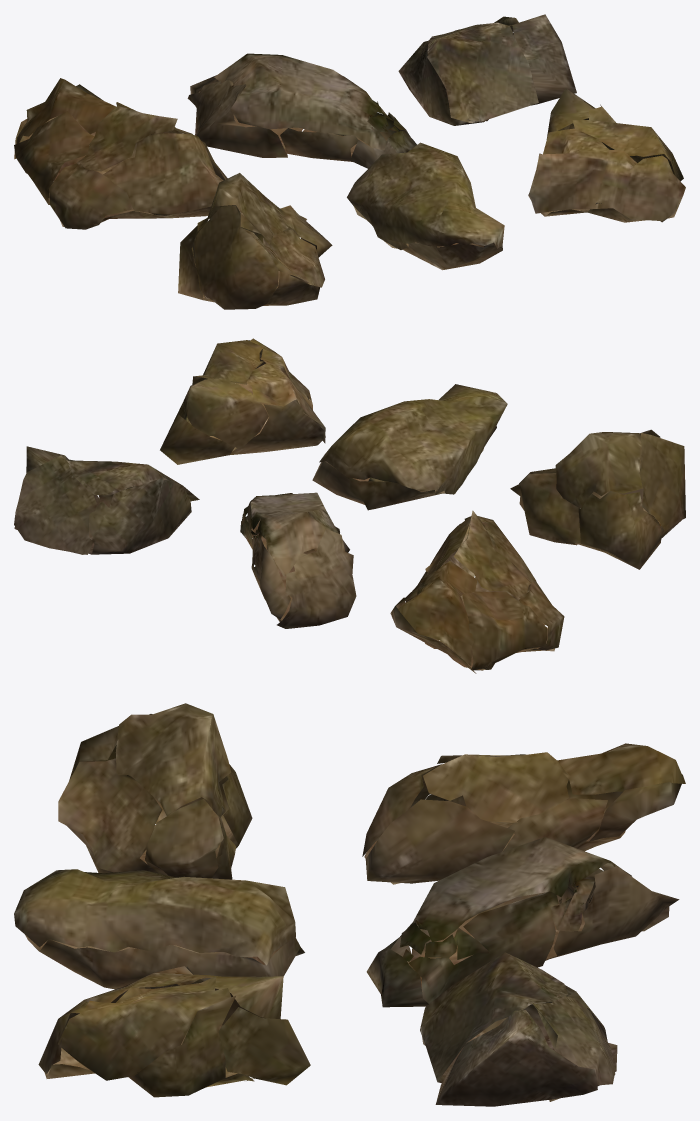
The model's file is rock_moss.glb.
3 renders of one model, top to bottom at view 1: azimuth 30°, elevation 25°; view 2: azimuth 150°, elevation 25°; view 3: azimuth 270°, elevation 25°, orthographic. The views are drawn at different scales.
Parts seen in each view (by area): view 1: rock_moss; view 2: rock_moss; view 3: rock_moss.
Part boxes in pixels (x1,y1,x2,y2): rock_moss: (14,14,685,309); rock_moss: (14,338,685,673); rock_moss: (14,703,685,1106).
Bounding box in the file's own units: 2.07 × 0.45 × 1.81.
1 material, 1 textured.
